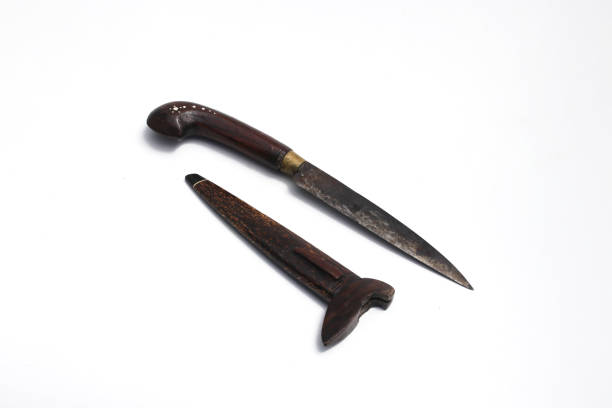knife: (143, 99, 475, 295)
